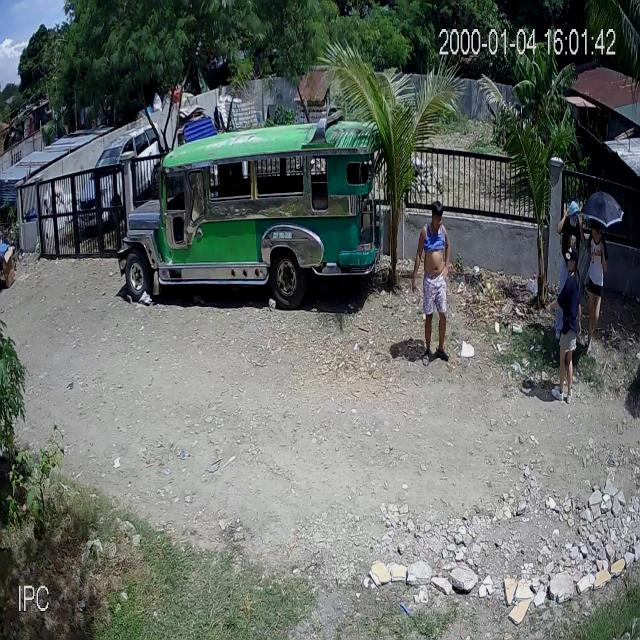standing: (554, 199, 586, 339), (585, 224, 608, 358)
walking: (412, 198, 452, 373), (551, 254, 581, 411)
